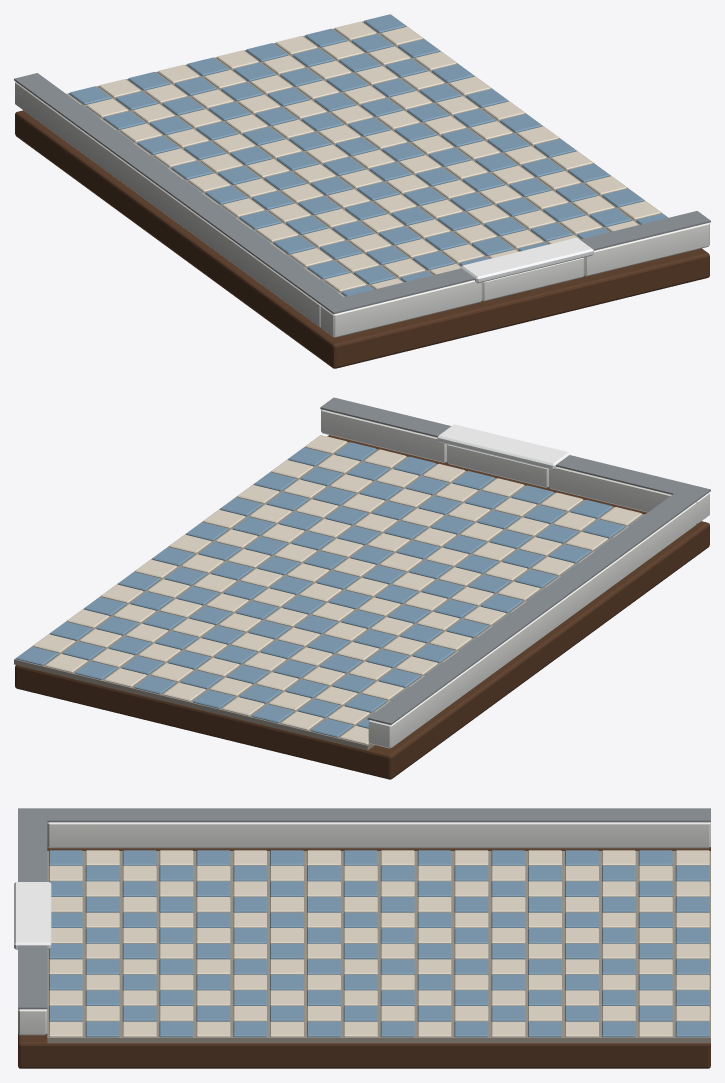
The model's file is house-kitchen.glb.
The picture shows the model from 3 angles, top to bottom: view 1: azimuth 30°, elevation 25°; view 2: azimuth 150°, elevation 25°; view 3: azimuth 270°, elevation 25°; orthographic projection. The views are drawn at different scales.
Visible parts, largest first — view 1: floor-kitchen, wall-kitchen-courtyard, wall-kitchen-west; view 2: floor-kitchen, wall-kitchen-west, wall-kitchen-courtyard; view 3: floor-kitchen, wall-kitchen-west, wall-kitchen-courtyard.
Part boxes in pixels (<box>): floor-kitchen: <box>15,14,709,368</box>; wall-kitchen-courtyard: <box>320,211,710,337</box>; wall-kitchen-west: <box>14,73,342,327</box>; floor-kitchen: <box>14,435,709,779</box>; wall-kitchen-west: <box>367,494,697,748</box>; wall-kitchen-courtyard: <box>320,397,710,524</box>; floor-kitchen: <box>18,847,710,1068</box>; wall-kitchen-west: <box>47,808,710,848</box>; wall-kitchen-courtyard: <box>14,808,51,1035</box>.
Bounding box in the file's own units: 4.8 × 0.7201 × 7.09.
Materials: 1 (1 with a texture image).
